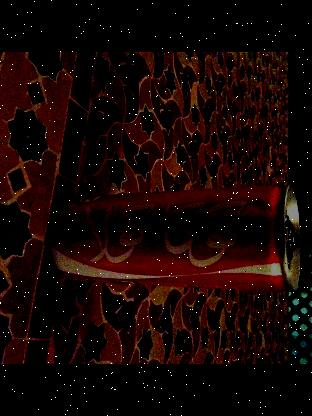Can: (46, 178, 308, 296)
